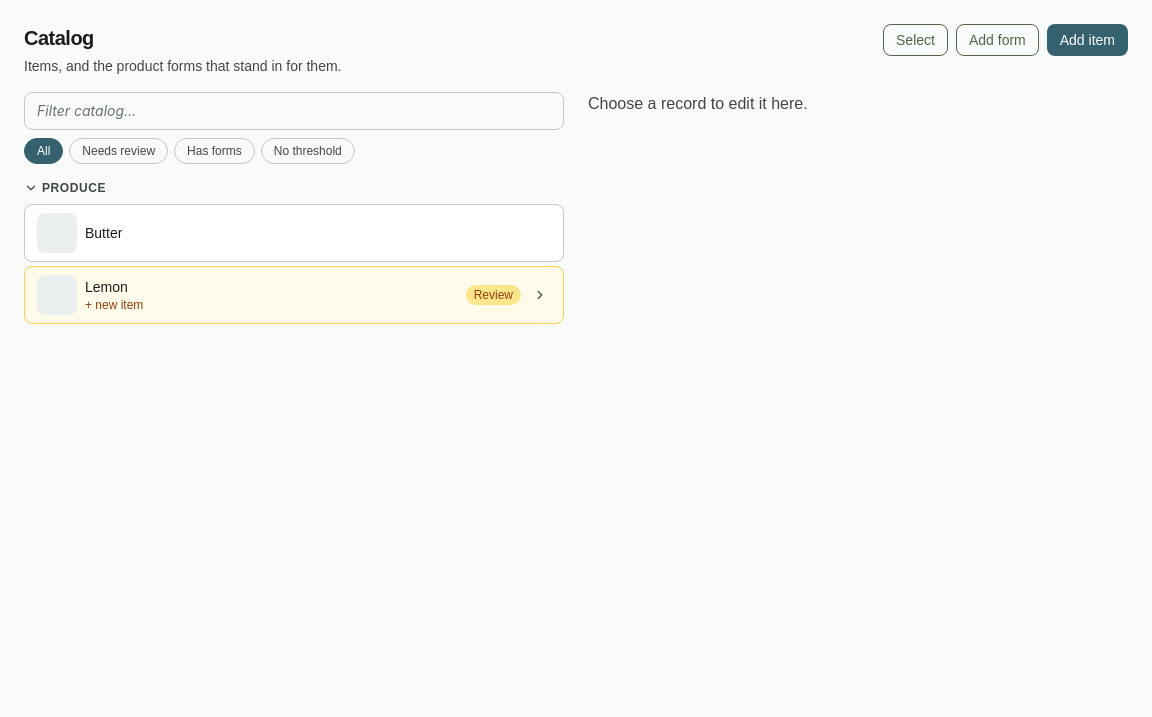
Test: CatalogPage — the two-pane breakpoint › edits the chosen record beside the list, without navigating
The width and height of the screenshot is (1152, 717).
Click the button with test id "catalog-row-name-wide" showing "Lemon + new item".
click(106, 287)  # box [85,277,458,313]
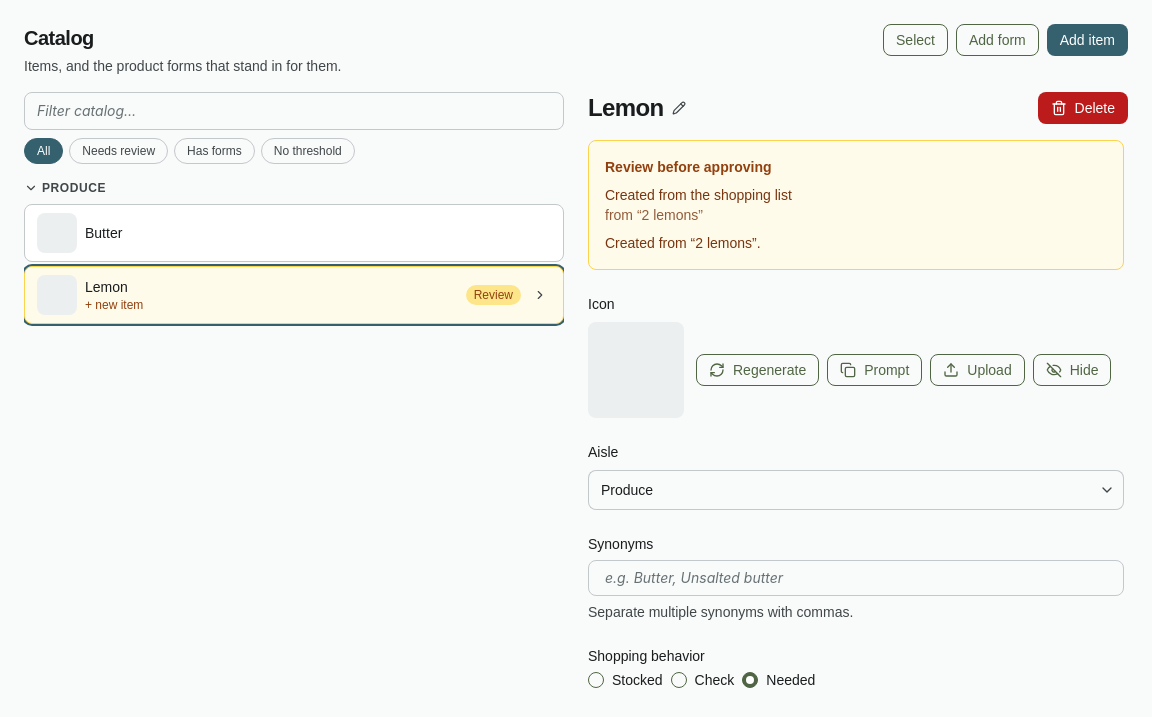
Now the field with test id "canon-detail-synonyms-input" is shown, box [605,568,1107,588]
